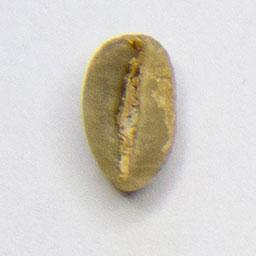longberry: (78, 30, 181, 196)
